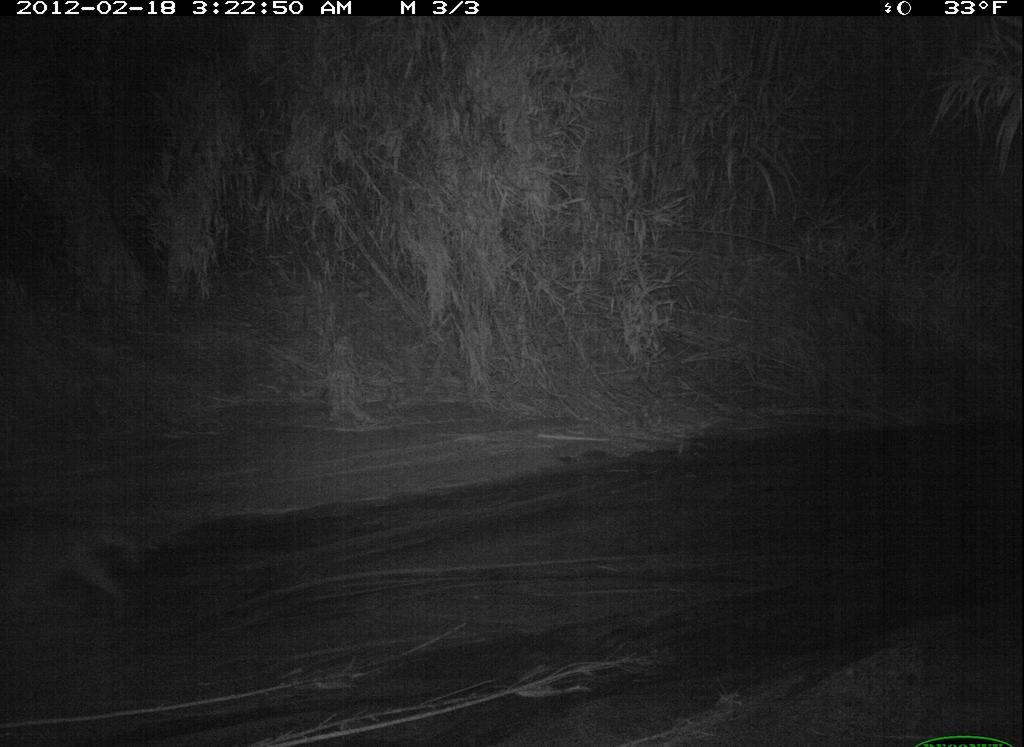raccoon: (3, 495, 153, 632)
